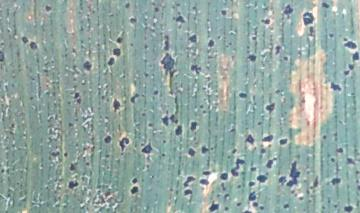tarspot: (158, 52, 178, 78), (288, 158, 301, 190), (232, 156, 246, 180), (280, 3, 296, 19), (180, 173, 197, 188), (140, 140, 154, 158), (328, 79, 344, 94), (117, 135, 131, 152), (340, 40, 359, 52), (300, 12, 316, 26), (234, 88, 251, 101), (41, 1, 55, 16), (187, 31, 200, 47), (309, 175, 322, 191), (184, 145, 198, 159), (243, 133, 257, 147), (264, 100, 278, 114), (104, 55, 119, 68), (259, 133, 276, 144), (80, 58, 93, 72), (208, 200, 222, 213), (158, 113, 170, 128), (172, 123, 184, 138), (66, 159, 77, 175), (161, 35, 171, 52), (128, 184, 141, 197), (330, 174, 343, 187), (64, 118, 77, 131), (66, 179, 80, 191), (187, 119, 199, 133), (245, 52, 259, 64), (344, 156, 358, 168), (225, 124, 239, 136), (111, 98, 122, 113), (129, 91, 140, 106), (197, 177, 212, 188), (254, 173, 269, 184), (273, 41, 282, 59), (172, 15, 188, 25), (102, 132, 114, 145), (218, 170, 230, 183), (190, 62, 202, 75), (264, 158, 276, 171), (276, 136, 290, 147), (125, 14, 139, 25), (111, 44, 123, 56), (180, 188, 196, 197), (205, 38, 217, 50), (246, 190, 258, 202), (280, 200, 293, 211), (326, 29, 337, 42), (26, 92, 37, 105), (318, 1, 332, 11), (258, 16, 272, 26), (342, 204, 357, 213), (225, 147, 240, 156), (218, 8, 230, 19), (19, 34, 29, 47), (199, 143, 209, 156), (48, 149, 61, 159), (333, 145, 346, 155), (1, 47, 8, 65), (246, 165, 260, 174), (122, 1, 133, 12), (29, 40, 39, 52), (151, 87, 161, 99), (257, 201, 267, 213), (114, 34, 125, 44), (146, 120, 156, 131), (222, 191, 232, 202), (233, 181, 244, 191), (297, 192, 305, 205), (129, 175, 139, 185), (277, 175, 287, 185), (319, 131, 329, 141), (159, 137, 169, 147), (259, 146, 268, 157), (159, 150, 168, 161), (72, 90, 81, 101), (350, 52, 360, 61), (347, 61, 357, 70), (61, 149, 69, 160), (247, 179, 255, 190), (83, 159, 91, 170), (242, 206, 254, 213), (152, 5, 161, 14), (283, 55, 291, 65), (102, 152, 112, 160), (223, 202, 230, 213), (343, 69, 351, 78), (234, 201, 243, 208)
